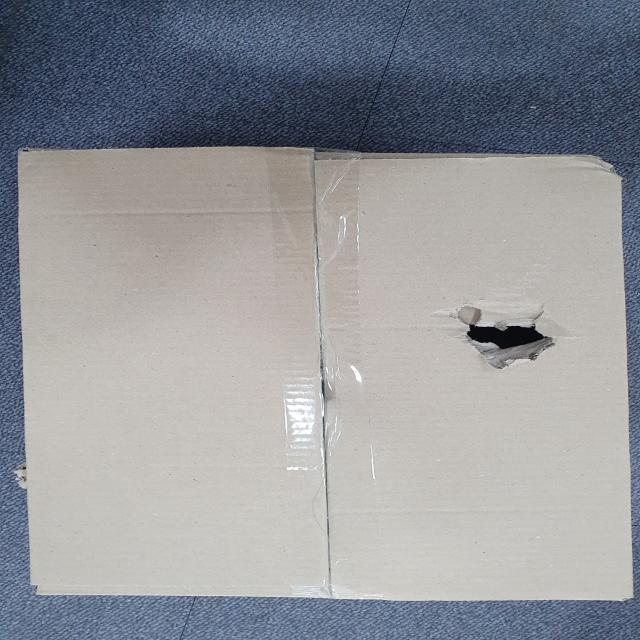hole: (444, 309, 570, 365)
